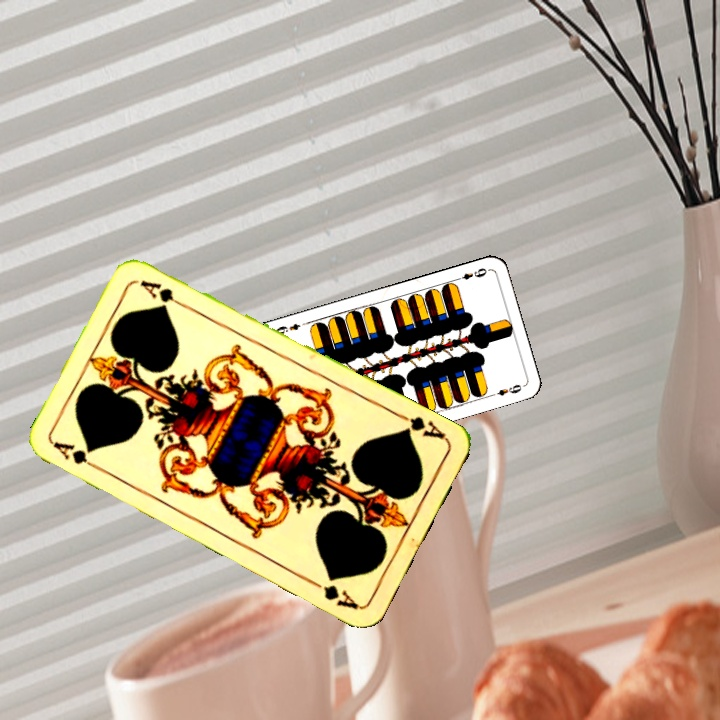E9: (451, 264, 491, 283)
GA: (49, 437, 104, 474), (393, 409, 448, 442)
